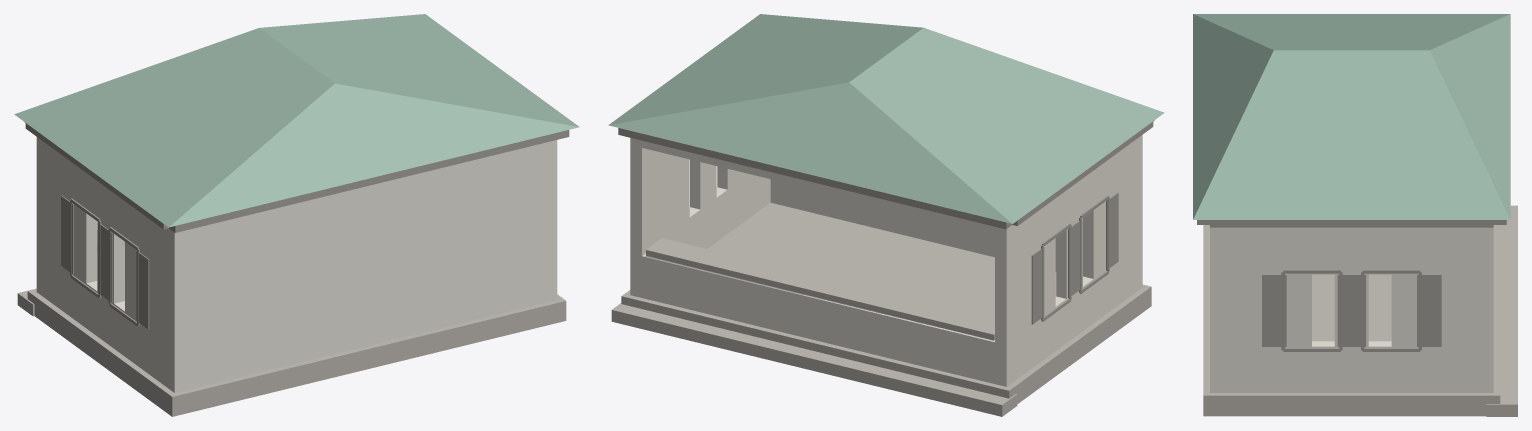
Rendered from cp_model_boathouse.glb.
3 renders of one model, left to right at view 1: azimuth 30°, elevation 25°; view 2: azimuth 150°, elevation 25°; view 3: azimuth 270°, elevation 25°, orthographic. The views are drawn at different scales.
Parts seen in each view (by area): view 1: ModelBoathouse; view 2: ModelBoathouse; view 3: ModelBoathouse.
Boxes of the visible parts, x1,y1,x2,y2 form: ModelBoathouse: (14, 14, 579, 416); ModelBoathouse: (608, 14, 1164, 416); ModelBoathouse: (1193, 14, 1517, 416).
Size of the model in its own units: 8.6 by 5.2 by 5.73.
